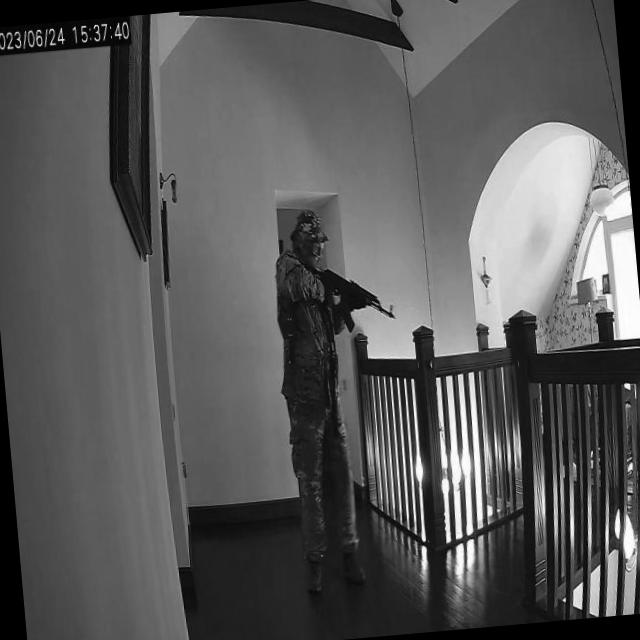gun: (308, 259, 402, 337)
person with a gun: (266, 196, 427, 597)
